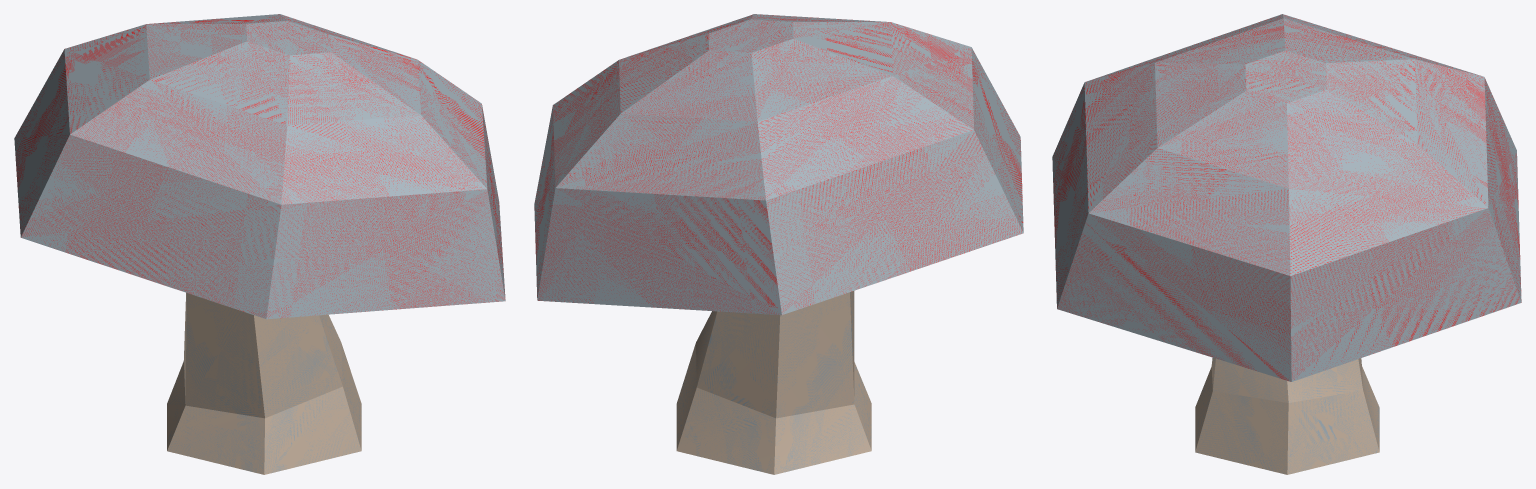
Rendered from Mushroom_05.fbx.
3 views of the same model, side by side, from view 1: azimuth 30°, elevation 25°; view 2: azimuth 150°, elevation 25°; view 3: azimuth 270°, elevation 25° (orthographic). The views are drawn at different scales.
Visible parts, largest first — view 1: Model; view 2: Model; view 3: Model.
Boxes of the visible parts, bbox=[...] form: Model: bbox=[14, 14, 505, 474]; Model: bbox=[534, 14, 1023, 474]; Model: bbox=[1052, 14, 1521, 474].
Bounding box in the file's own units: 60.27 × 46.65 × 53.46.
